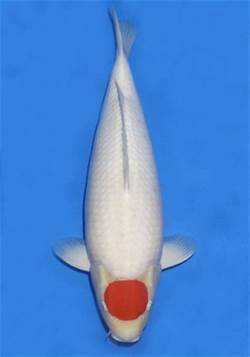sun: (53, 8, 197, 345)
